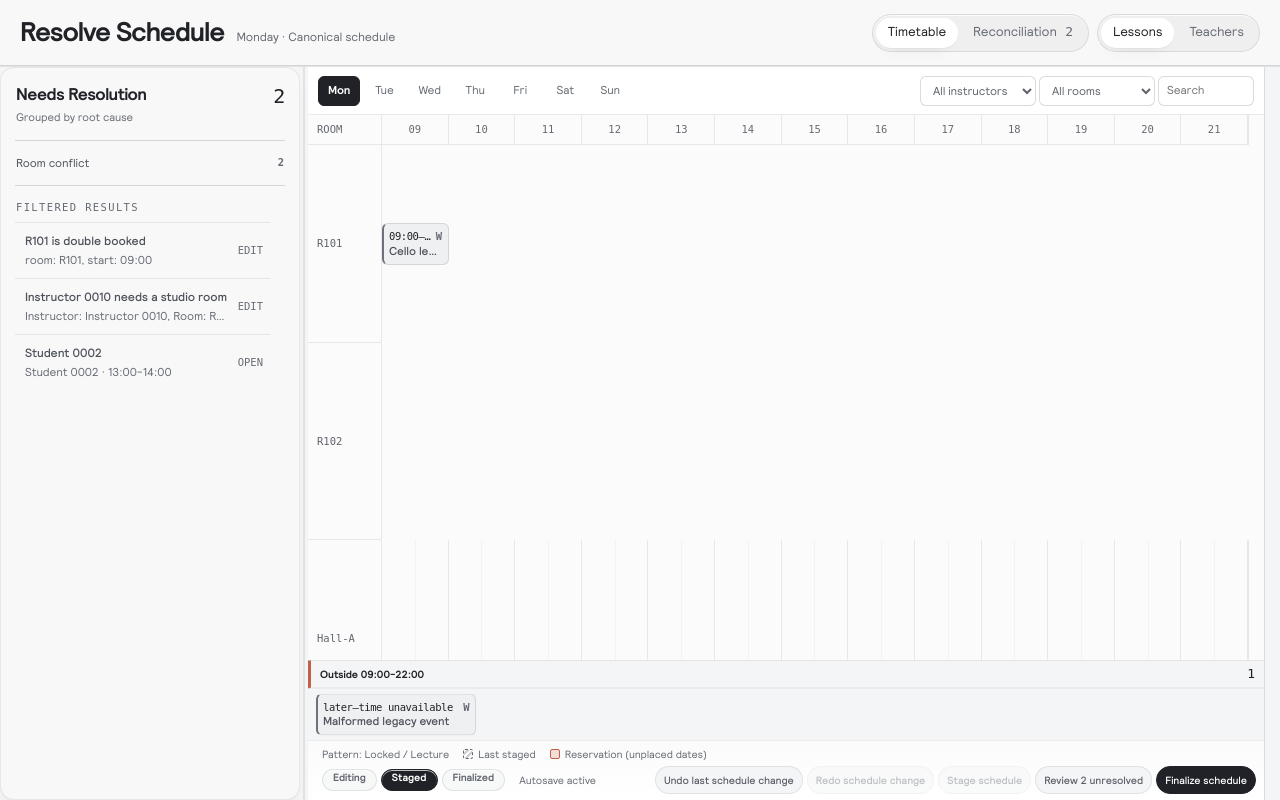
Test case: ResolvePage › opens reconciliation as a contextual split with the Pi workbench beside the timetable
Click the button "Reconciliation 2". click: click(1023, 32)
box: left=961, top=18, right=1085, bottom=48
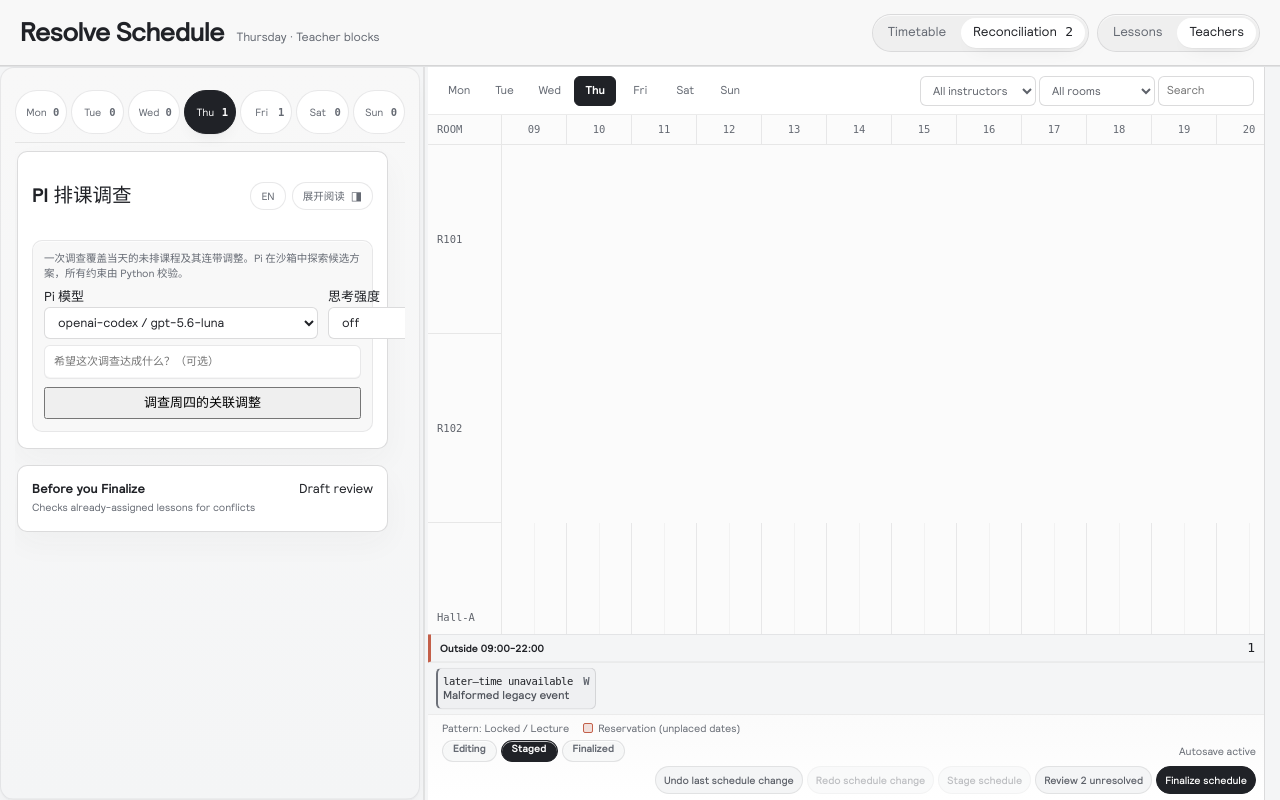
Expected: the element named "Schedule grid" is shown, left=428, top=67, right=1264, bottom=714
Now the element labelled "PI 排课调查" is shown, box left=17, top=151, right=388, bottom=449
